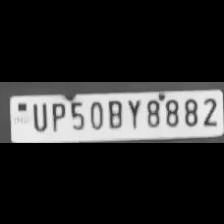0: (86, 96, 104, 130)
2: (200, 93, 218, 126)
5: (66, 97, 86, 130)
8: (143, 96, 161, 128), (162, 96, 180, 128), (180, 95, 198, 127)
B: (104, 96, 124, 130)
P: (47, 98, 65, 132)
U: (28, 98, 48, 132)
Y: (124, 96, 142, 128)
